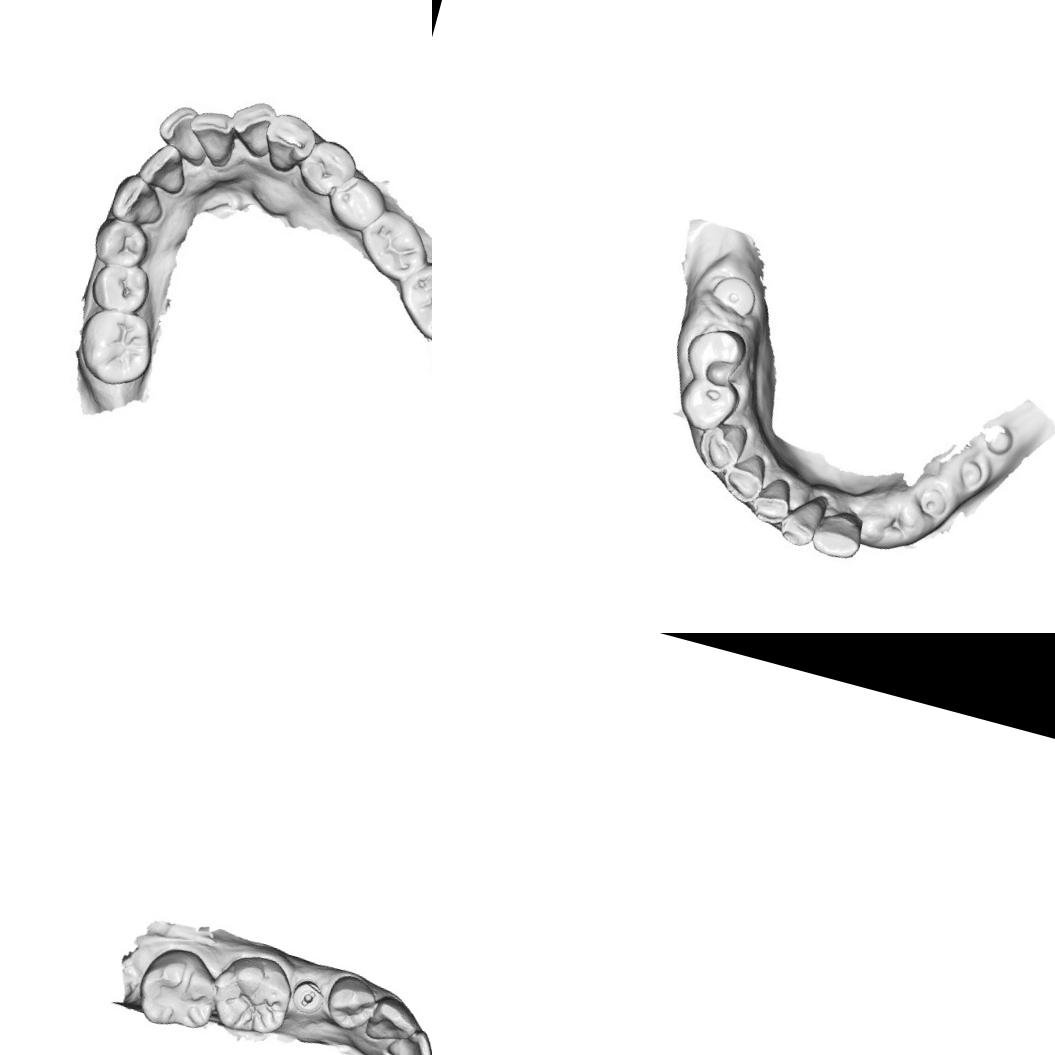canine: (256, 107, 320, 182), (102, 167, 174, 232), (362, 991, 424, 1050)
implant: (704, 268, 764, 327), (913, 481, 952, 522), (951, 454, 991, 491)
implant_minus: (287, 976, 327, 1017)
incisor: (150, 96, 215, 165), (181, 103, 242, 171), (222, 94, 278, 162), (692, 418, 750, 480), (137, 140, 194, 195), (812, 503, 866, 560), (782, 491, 826, 546), (749, 474, 796, 524), (724, 450, 766, 500), (383, 1021, 432, 1055)
molar: (130, 940, 229, 1038), (206, 946, 300, 1042), (70, 302, 161, 395), (353, 207, 432, 287), (385, 250, 432, 349)
premolar: (291, 134, 362, 202), (676, 371, 744, 436), (86, 256, 155, 320), (322, 172, 388, 236), (319, 970, 382, 1036), (684, 324, 749, 386), (87, 212, 150, 272)
